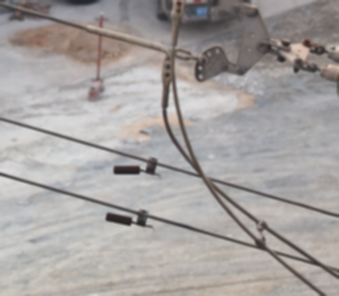damper_defect: (104, 206, 157, 232), (112, 155, 166, 179)
